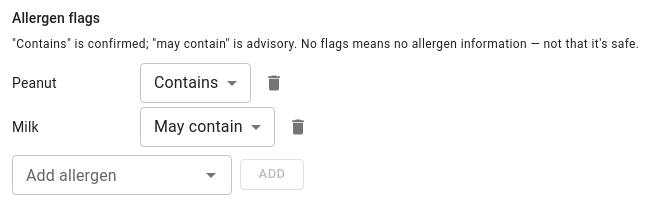
Test: AllergenFlagsEditor › removes a flag via the delete button
This screenshot has width=655, height=212.
Click the button named "remove Peanut".
click(274, 83)  # box [258,68,288,98]
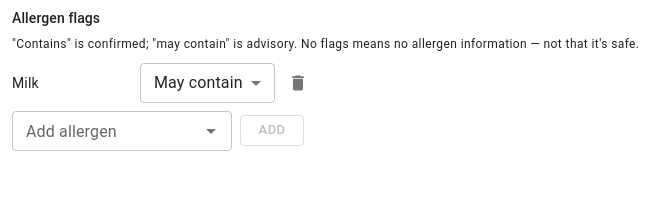
Now the text "Peanut" is gone
